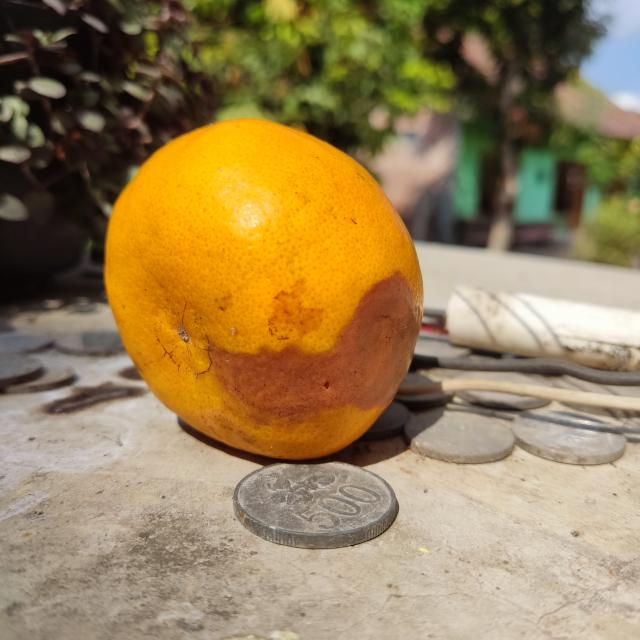orange: (100, 119, 424, 459)
